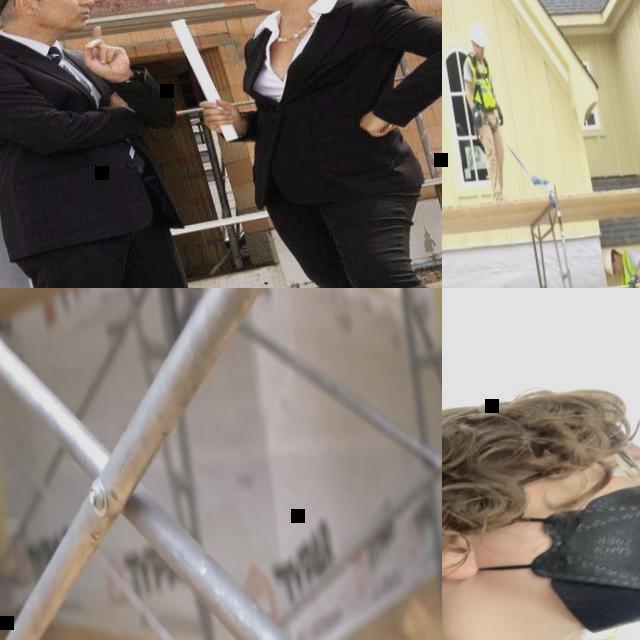helmet: (468, 22, 488, 49), (602, 248, 618, 278)
mask: (442, 473, 640, 640)
no_helmet: (442, 373, 640, 522)
no_mask: (30, 0, 96, 38), (245, 0, 304, 13), (616, 260, 624, 278), (476, 50, 484, 60)
no_vest: (0, 28, 172, 256), (236, 0, 415, 191)
person: (0, 0, 294, 288), (175, 0, 442, 288), (442, 346, 640, 640), (454, 19, 516, 204)
vest: (465, 52, 496, 111), (617, 245, 640, 288)
